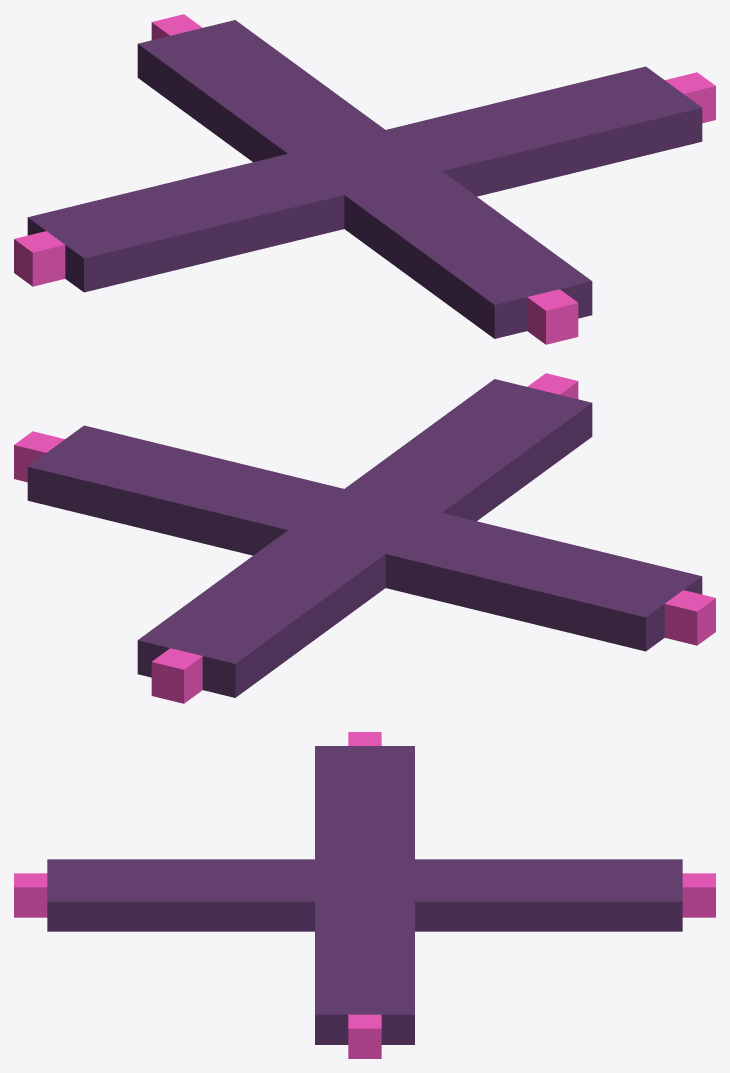
Rendered from vox_boom_cross.glb.
3 views of the same model, one above another, from view 1: azimuth 30°, elevation 25°; view 2: azimuth 150°, elevation 25°; view 3: azimuth 270°, elevation 25° (orthographic). The views are drawn at different scales.
Visible parts, largest first — view 1: vox_boom_cross; view 2: vox_boom_cross; view 3: vox_boom_cross.
Part boxes in pixels (box(x1,y1,x2,y2)): vox_boom_cross: box(14, 14, 715, 344); vox_boom_cross: box(14, 373, 715, 703); vox_boom_cross: box(14, 732, 715, 1058).
Bounding box in the file's own units: 0.42 × 0.02 × 0.42.
